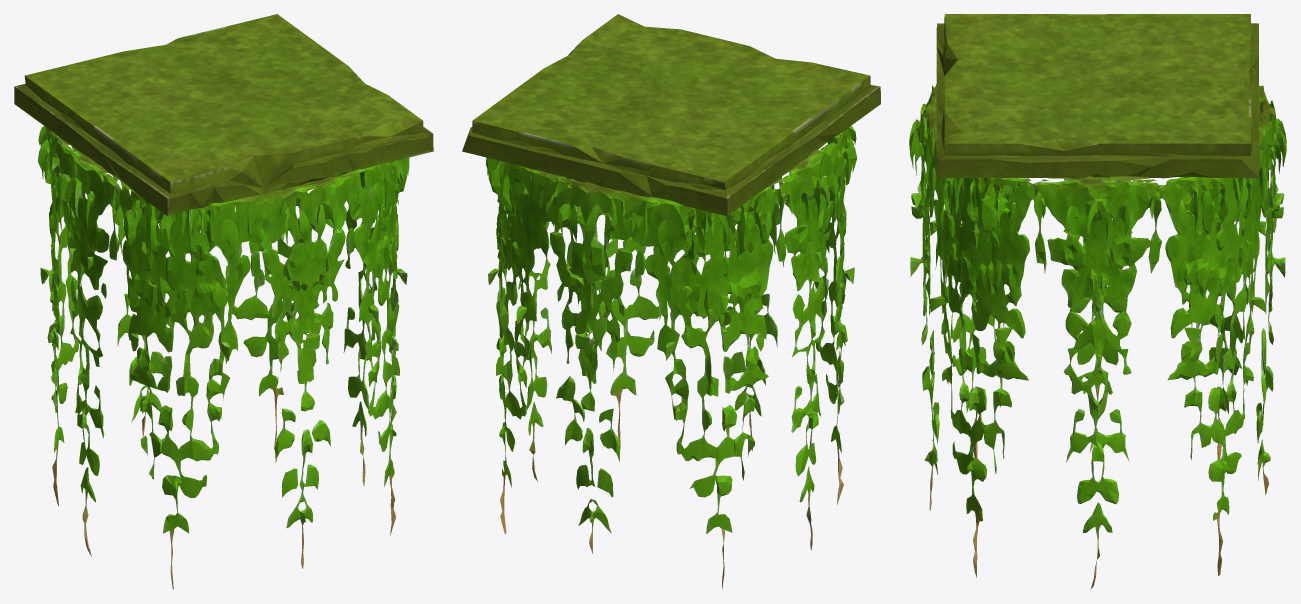
File: jungle_vines_v001.glb
The picture shows the model from 3 angles, left to right: view 1: azimuth 30°, elevation 25°; view 2: azimuth 150°, elevation 25°; view 3: azimuth 270°, elevation 25°; orthographic projection. The views are drawn at different scales.
Visible parts, largest first — view 1: Jungle_Vines; view 2: Jungle_Vines; view 3: Jungle_Vines.
Part boxes in pixels (left/top/right/bottom): Jungle_Vines: left=14, top=14, right=433, bottom=589; Jungle_Vines: left=462, top=14, right=880, bottom=588; Jungle_Vines: left=909, top=14, right=1286, bottom=589.
Size of the model in its own units: 3.74 by 4.93 by 3.79.
Materials: 1 (1 with a texture image).
